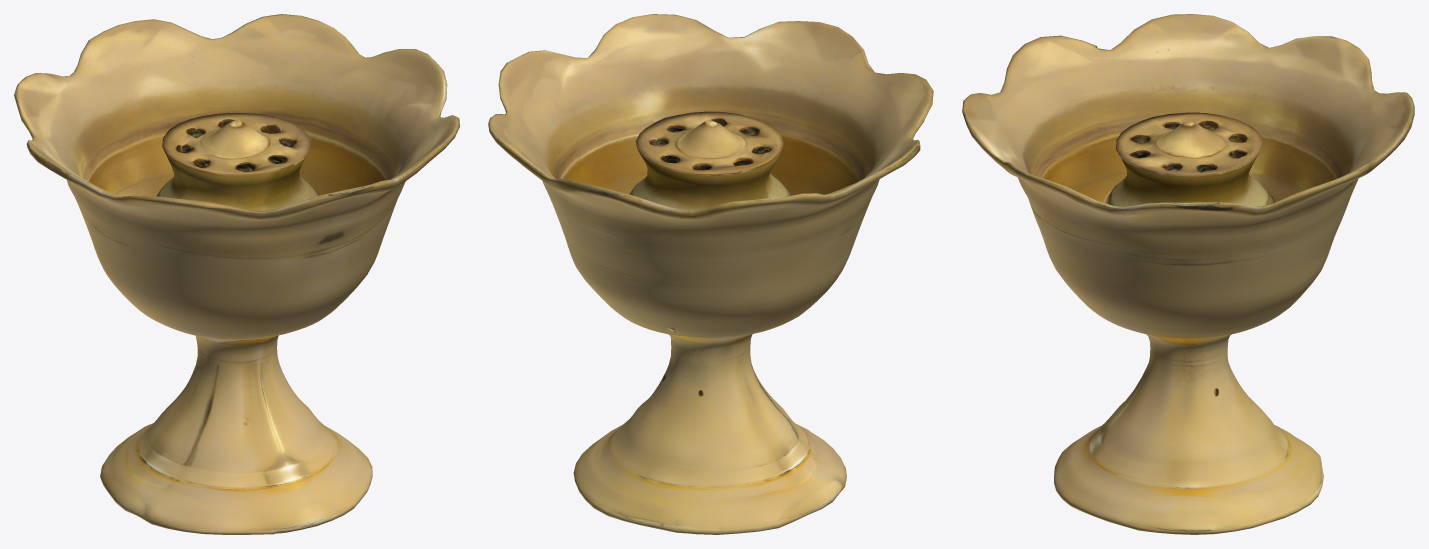
3 renders of one model, left to right at view 1: azimuth 30°, elevation 25°; view 2: azimuth 150°, elevation 25°; view 3: azimuth 270°, elevation 25°, orthographic.
Size of the model in its own units: 1.98 by 1.8 by 1.98.
1 material, 1 textured.
